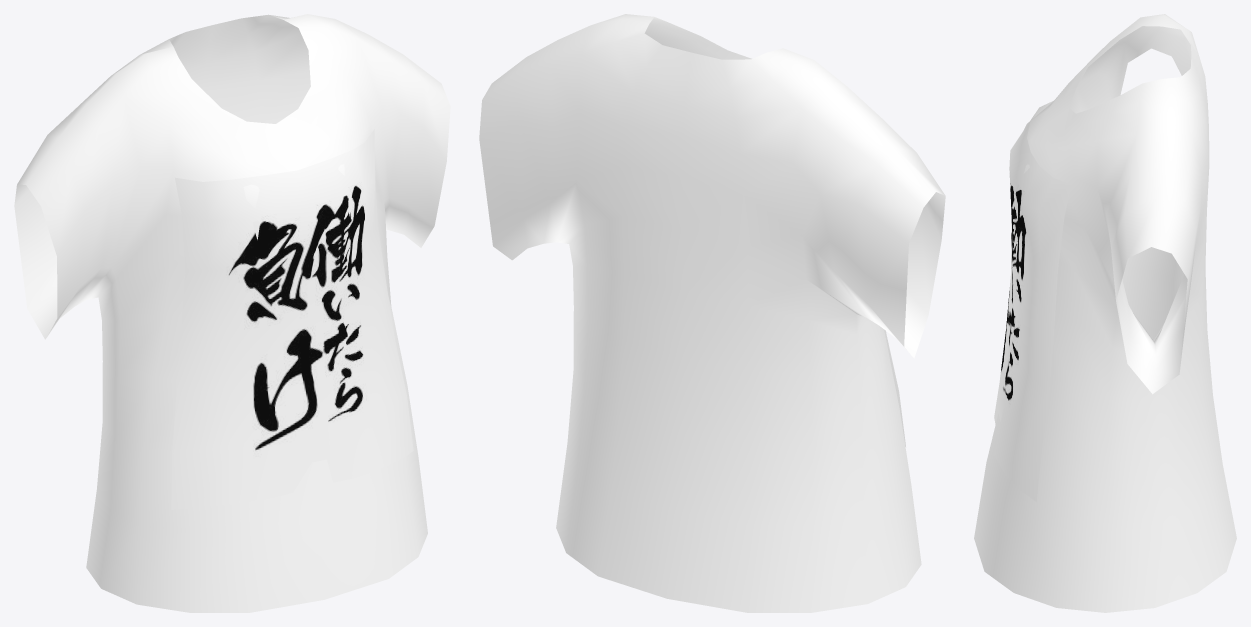
The model's file is yuruT.glb.
The picture shows the model from 3 angles, left to right: view 1: azimuth 30°, elevation 25°; view 2: azimuth 150°, elevation 25°; view 3: azimuth 270°, elevation 25°; orthographic projection. The views are drawn at different scales.
Visible parts, largest first — view 1: YuruT, hataraitara_make; view 2: YuruT; view 3: YuruT, hataraitara_make.
Part boxes in pixels (bbox=[...]): YuruT: bbox=[14, 14, 450, 612]; hataraitara_make: bbox=[171, 129, 413, 509]; YuruT: bbox=[479, 14, 945, 612]; YuruT: bbox=[974, 14, 1236, 612]; hataraitara_make: bbox=[994, 100, 1071, 501].
Size of the model in its own units: 0.4776 by 0.5449 by 0.2674.
Materials: 2 (2 with a texture image).
